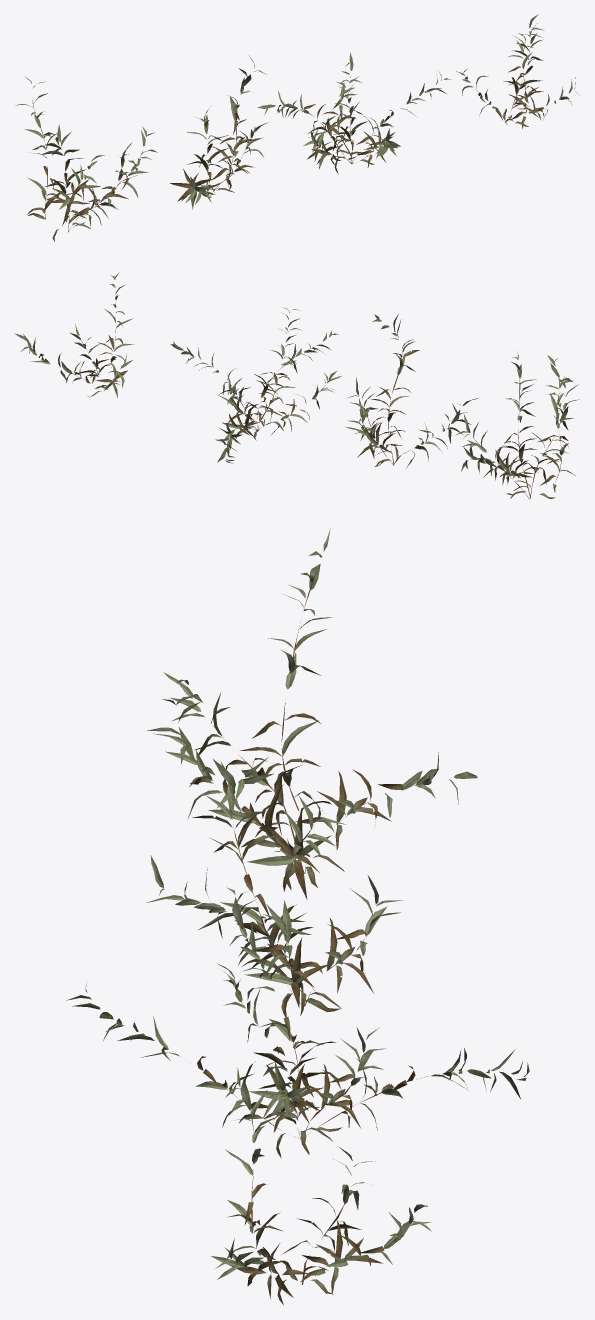
File: shrub_02.glb
3 renders of one model, top to bottom at view 1: azimuth 30°, elevation 25°; view 2: azimuth 150°, elevation 25°; view 3: azimuth 270°, elevation 25°, orthographic. The views are drawn at different scales.
Visible parts, largest first — view 1: shrub_02_a; view 2: shrub_02_a; view 3: shrub_02_a.
Boxes of the visible parts, box(x1,y1,x2,y2) form: shrub_02_a: box(15, 14, 579, 241); shrub_02_a: box(14, 272, 578, 499); shrub_02_a: box(66, 529, 529, 1305).
Size of the model in its own units: 6.05 by 1.7 by 2.28.
Materials: 1 (1 with a texture image).
